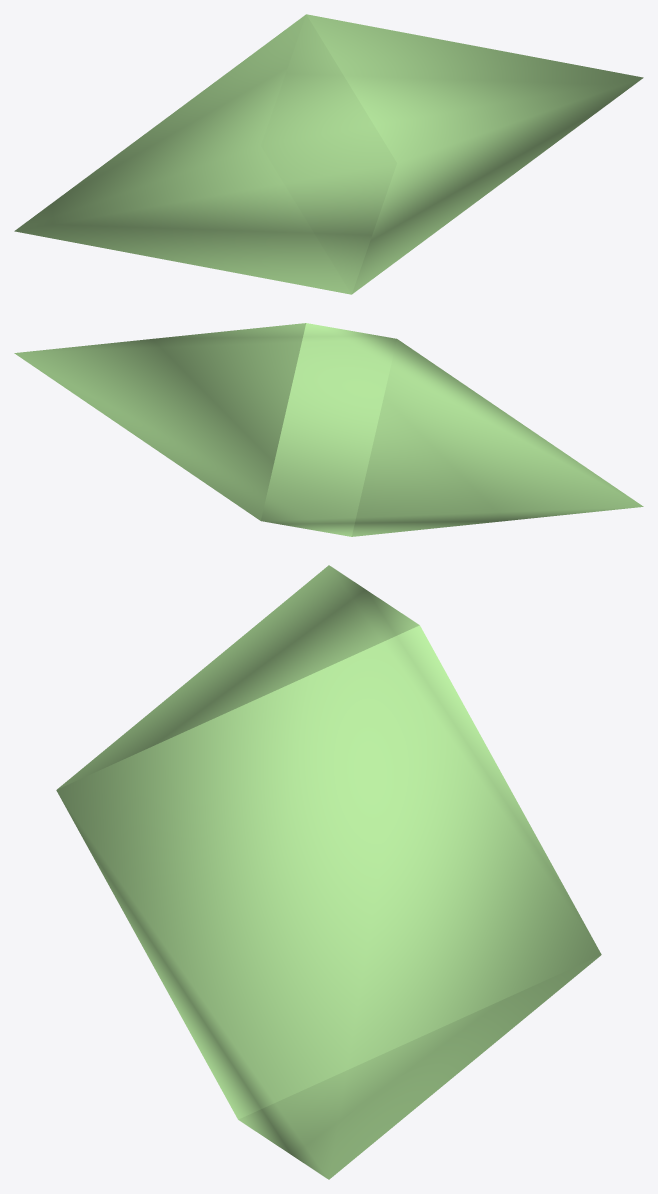
The picture shows the model from 3 angles, top to bottom: view 1: azimuth 30°, elevation 25°; view 2: azimuth 150°, elevation 25°; view 3: azimuth 270°, elevation 25°; orthographic projection. The views are drawn at different scales.
Bounding box in the file's own units: 8 × 3 × 3.
